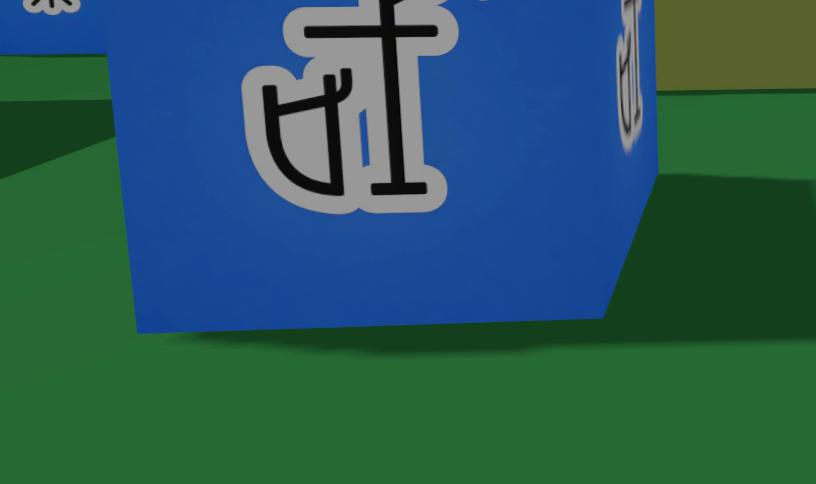KFS_REAL: (101, 0, 665, 331), (242, 0, 456, 214), (0, 0, 107, 54), (616, 0, 642, 152), (22, 0, 81, 14), (620, 78, 624, 79)
